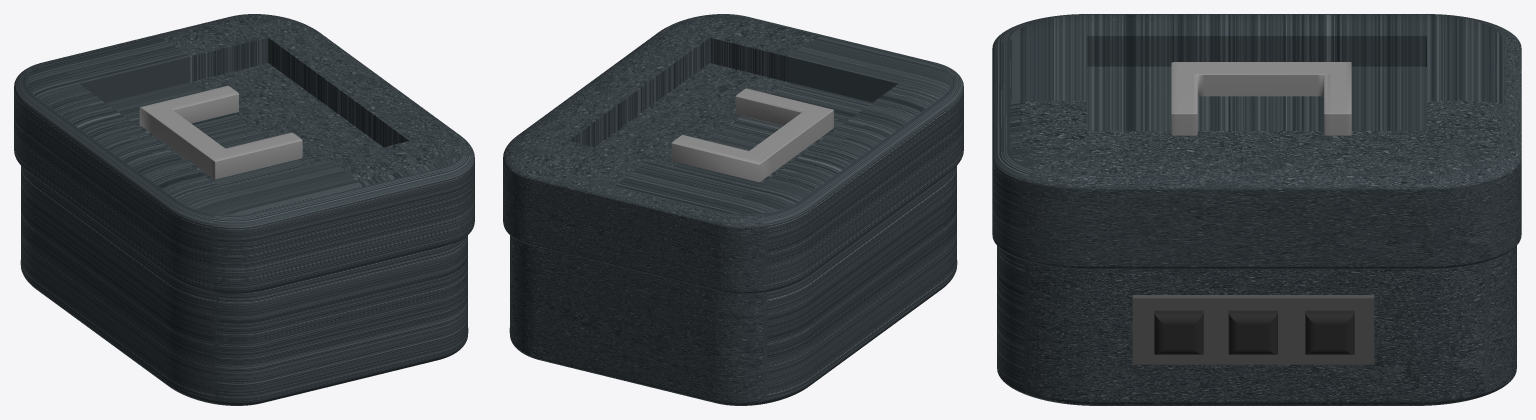
Rendered from BOXWIDBUTTONS.fbx.
3 views of the same model, side by side, from view 1: azimuth 30°, elevation 25°; view 2: azimuth 150°, elevation 25°; view 3: azimuth 270°, elevation 25° (orthographic). The views are drawn at different scales.
Parts seen in each view (by area): view 1: lid, box; view 2: lid, box; view 3: lid, box, button1, button3, button2.
Part boxes in pixels (x1=…): lid: x1=14, y1=14, x2=474, y2=293; box: x1=20, y1=166, x2=468, y2=405; lid: x1=503, y1=14, x2=963, y2=293; box: x1=509, y1=166, x2=957, y2=405; lid: x1=992, y1=14, x2=1521, y2=269; box: x1=997, y1=246, x2=1516, y2=405; button1: x1=1154, y1=310, x2=1203, y2=354; button3: x1=1305, y1=310, x2=1354, y2=354; button2: x1=1228, y1=310, x2=1277, y2=354.
Size of the model in its own units: 351 by 216 by 435.
